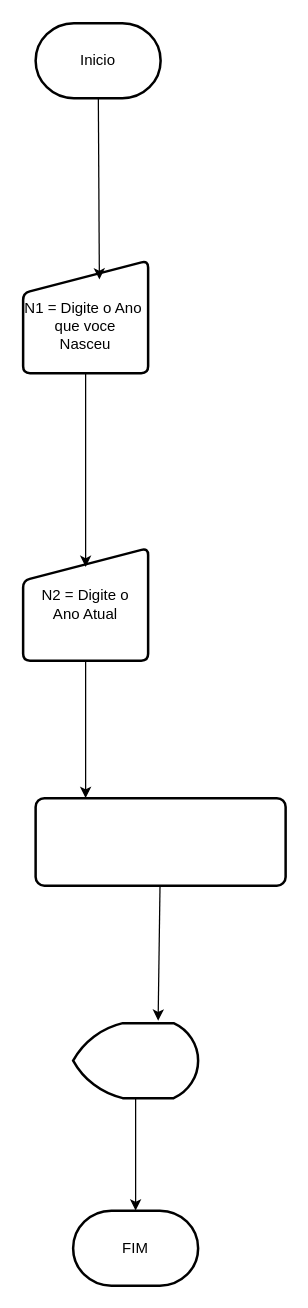
Image size: 308x1308. Some labels were removed from this diagram. Each missing label, with the box of its shape:
Idade = ( N2 - N1 ): (34, 796, 286, 886)
Você tem Idade " Anos": (71, 1021, 199, 1099)
